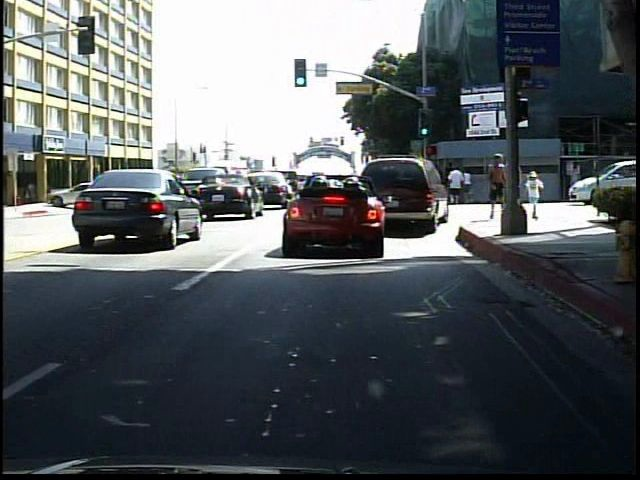person: (483, 151, 507, 222), (523, 173, 545, 221), (119, 173, 138, 204)
